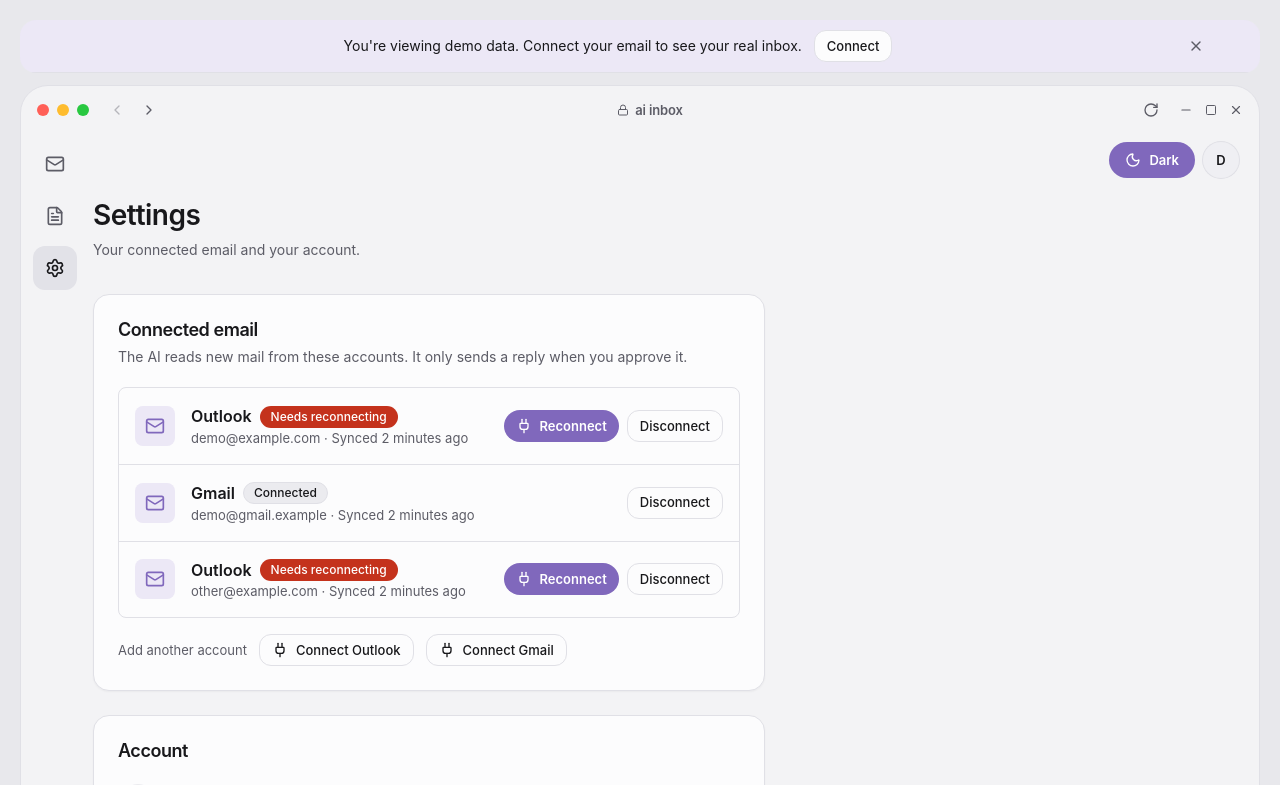
Test: app › reconnects the Outlook row that was clicked when two need reconnecting
The image size is (1280, 785).
Check: the text "other@example.com · Synced 2 minutes ago" is shown, box [191, 582, 488, 601]
Click the button "Reconnect" in the row of "other@example.com": (561, 579) [504, 563, 619, 595]
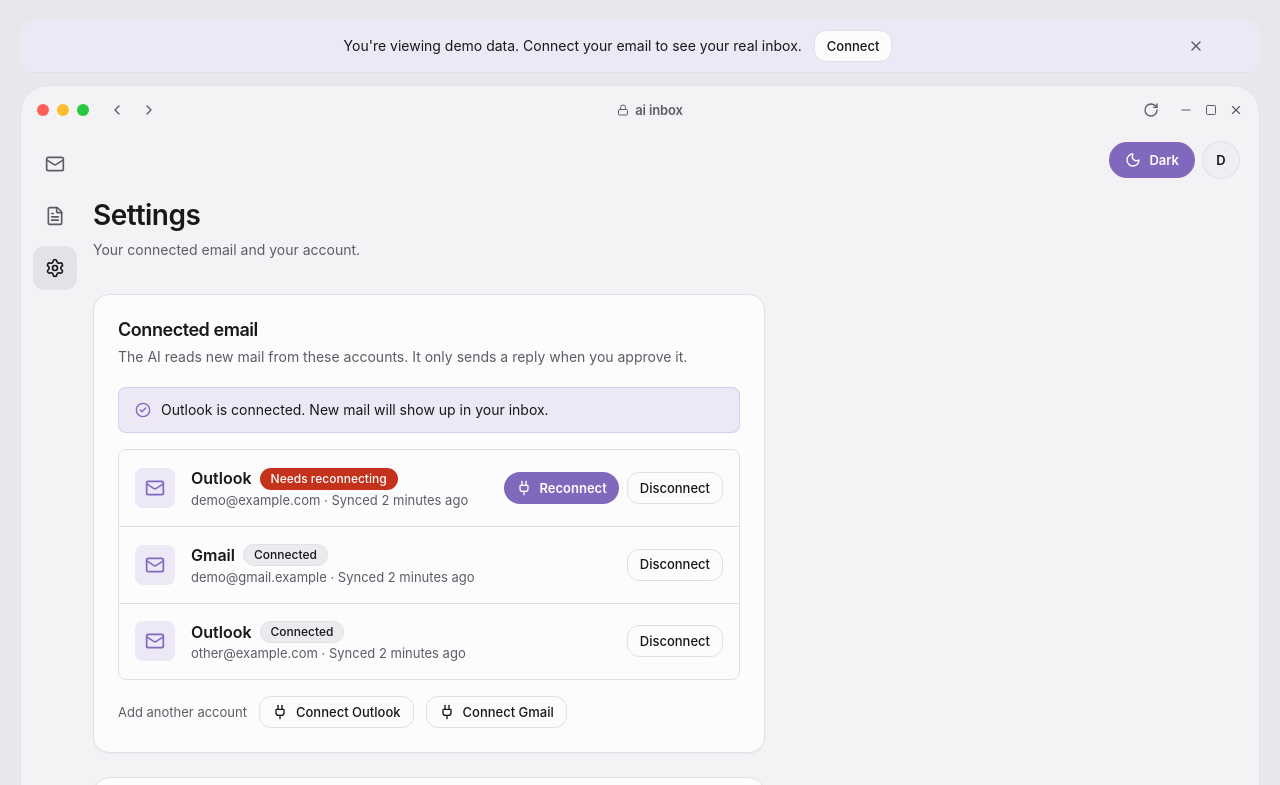
Check: the text "Outlook is connected. New mail will show up in your inbox." is shown, box [161, 401, 549, 418]
